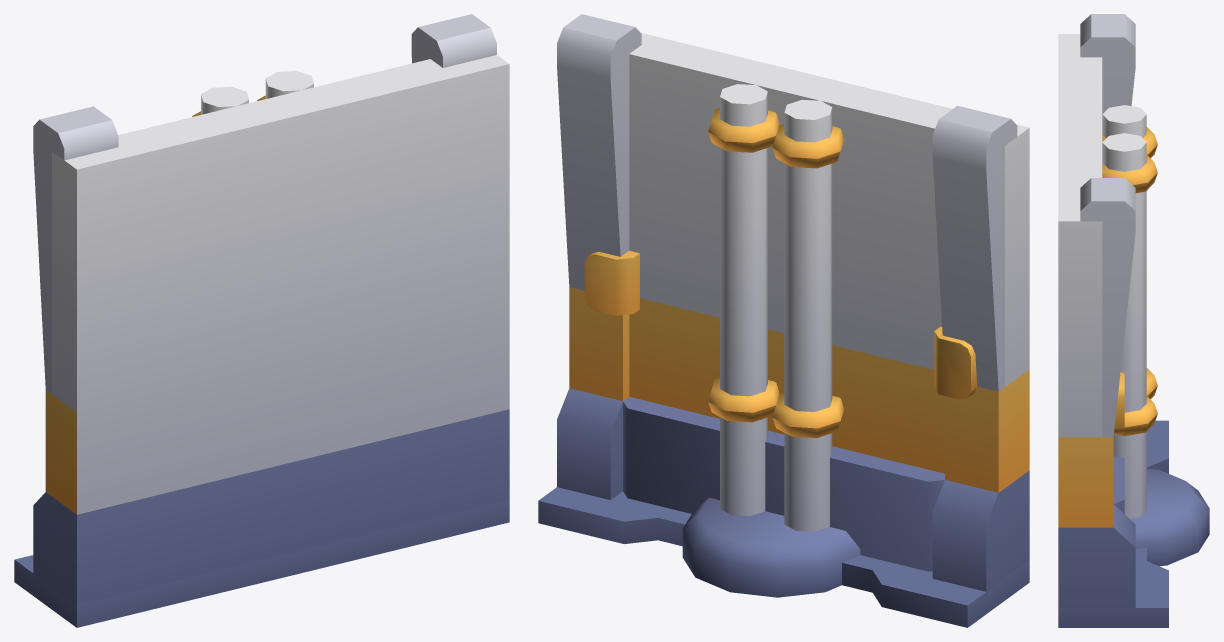
Rendered from kenney-space-template-wall-detail-a.glb.
The picture shows the model from 3 angles, left to right: view 1: azimuth 30°, elevation 25°; view 2: azimuth 150°, elevation 25°; view 3: azimuth 270°, elevation 25°; orthographic projection. The views are drawn at different scales.
Visible parts, largest first — view 1: template-wall-detail-a; view 2: template-wall-detail-a; view 3: template-wall-detail-a.
Boxes of the visible parts, <box> form: template-wall-detail-a: <box>14,14,509,627</box>; template-wall-detail-a: <box>538,14,1029,627</box>; template-wall-detail-a: <box>1058,14,1209,627</box>.
Bounding box in the file's own units: 3 × 3.19 × 1.03.
Materials: 1 (1 with a texture image).
